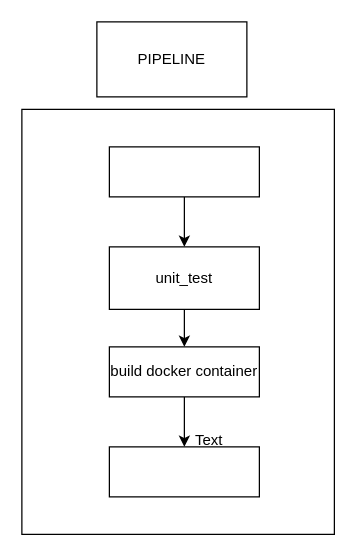
The diagram is 356 pixels wide and 556 high, and some of its shapes have lost their labels. Here are the shapes that lost their labels. From the top down, the centre of each, then its label:
At (x=183, y=171): "checkstyle".
At (x=183, y=471): "deploy to prod".
